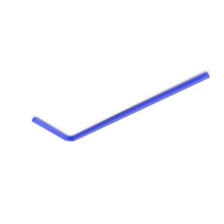drinking_straw: (26, 66, 218, 146)
